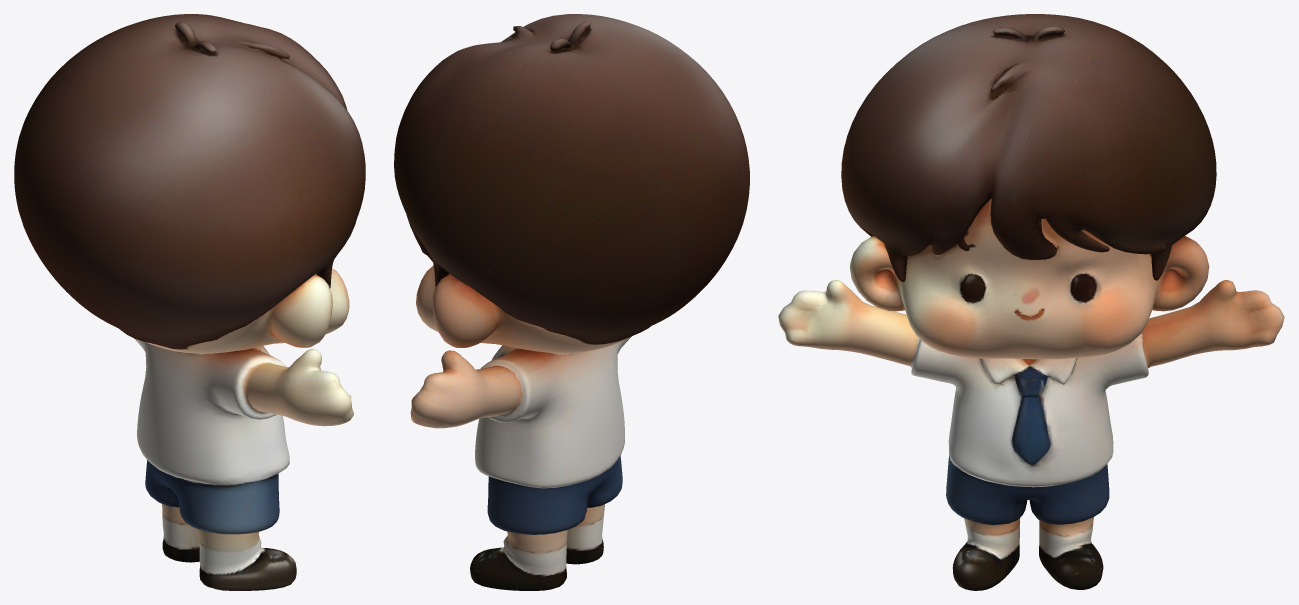
Rendered from boy.glb.
The picture shows the model from 3 angles, left to right: view 1: azimuth 30°, elevation 25°; view 2: azimuth 150°, elevation 25°; view 3: azimuth 270°, elevation 25°; orthographic projection. The views are drawn at different scales.
Visible parts, largest first — view 1: tripo_node_43eae947-f463-4c96-b4fe-24569fef2e6e; view 2: tripo_node_43eae947-f463-4c96-b4fe-24569fef2e6e; view 3: tripo_node_43eae947-f463-4c96-b4fe-24569fef2e6e.
Boxes of the visible parts, box(x1,y1,x2,y2) form: tripo_node_43eae947-f463-4c96-b4fe-24569fef2e6e: box(14, 14, 365, 590); tripo_node_43eae947-f463-4c96-b4fe-24569fef2e6e: box(394, 14, 749, 590); tripo_node_43eae947-f463-4c96-b4fe-24569fef2e6e: box(778, 14, 1284, 590).
Size of the model in its own units: 0.5772 by 0.9999 by 0.8618.
1 material, 1 textured.
